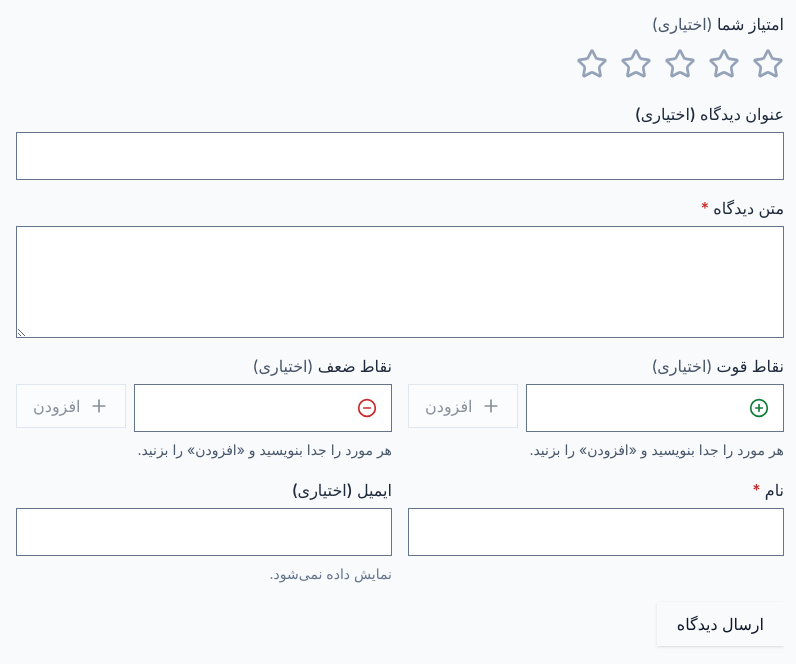
Scenario: ReviewForm controls › rates with a radio group of five large stars, optional and clearable
Click the radio button named "۳ ستاره: معمولی": click(680, 64) [664,48,696,80]
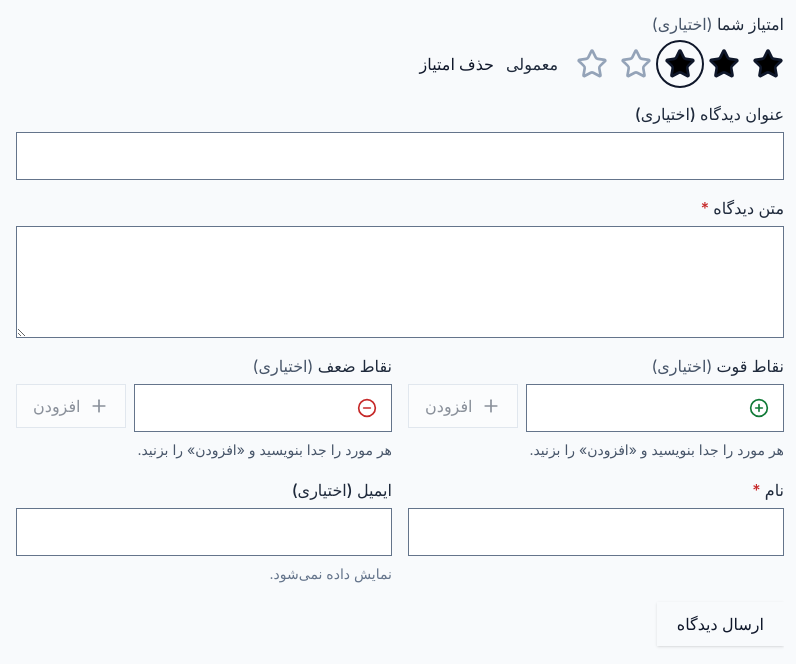
Expected: the radio button named "۳ ستاره: معمولی" is checked, [664,48,696,80]
Arrow keys move the choice, as in any radio group.
Press Arrowdown
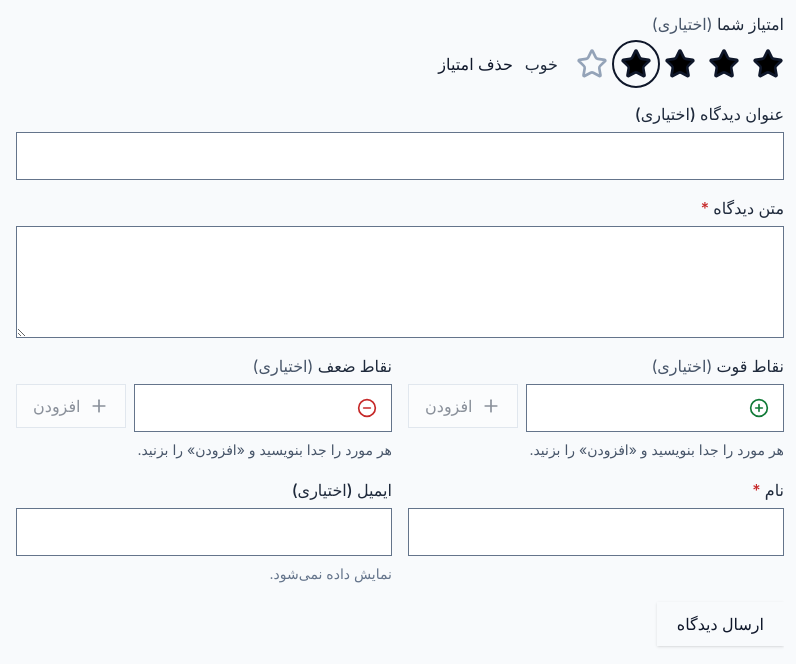
Expected: the radio button named "۴ ستاره: خوب" is checked, [620,48,652,80]
Expected: the text "خوب" is shown, [525,52,558,76]
Click the button "حذف امتیاز": click(476, 64) [438,52,513,76]
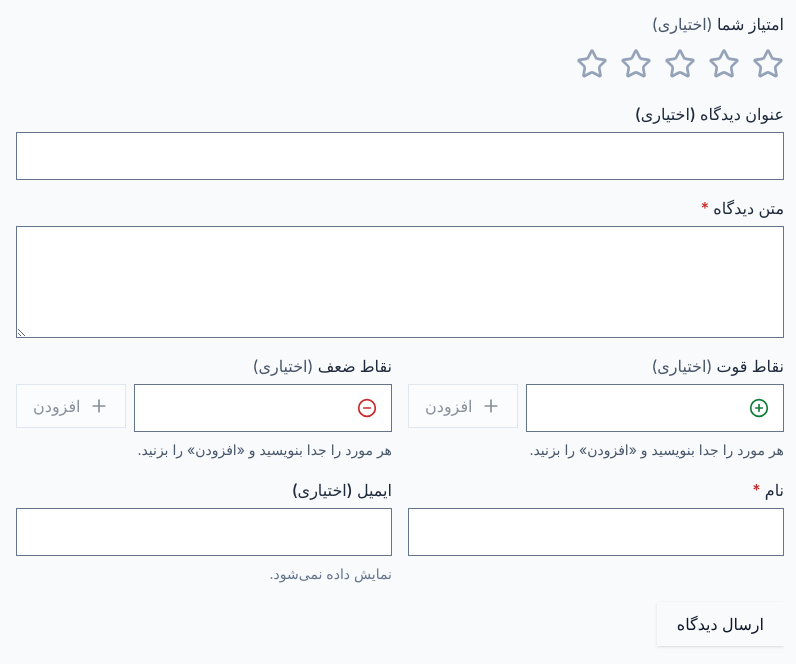
Expected: the radio button named "۱ ستاره: خیلی بد" is not checked, [752,48,784,80]
Expected: the radio button named "۳ ستاره: معمولی" is not checked, [664,48,696,80]
Expected: the radio button named "۴ ستاره: خوب" is not checked, [620,48,652,80]
